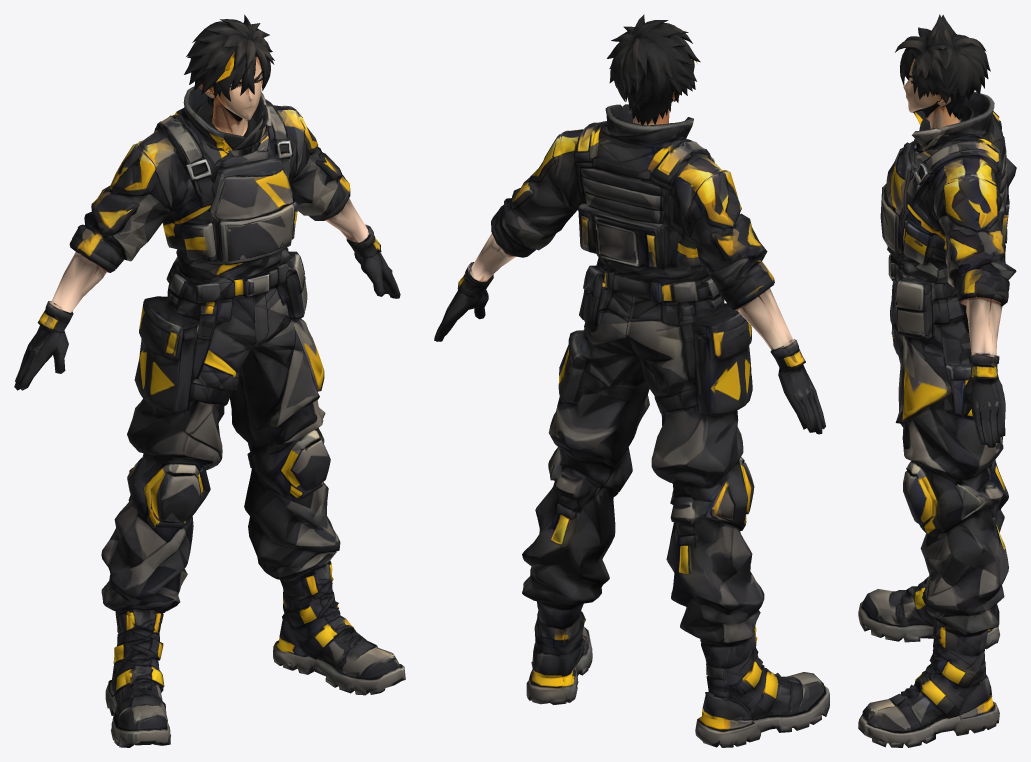
File: Sledge.fbx
3 views of the same model, side by side, from view 1: azimuth 30°, elevation 25°; view 2: azimuth 150°, elevation 25°; view 3: azimuth 270°, elevation 25° (orthographic). The views are drawn at different scales.
Visible parts, largest first — view 1: tripo_part_0.002, tripo_part_1.001, tripo_part_4.002, Sledge_Head, tripo_part_2.002; view 2: tripo_part_0.002, tripo_part_1.001, tripo_part_4.002, tripo_part_2.002, Sledge_Head; view 3: tripo_part_0.002, tripo_part_1.001, tripo_part_2.002, Sledge_Head.
Part boxes in pixels (<box>): tripo_part_0.002: <box>101,284,405,747</box>; tripo_part_1.001: <box>154,86,307,318</box>; tripo_part_4.002: <box>14,131,196,390</box>; Sledge_Head: <box>184,14,274,150</box>; tripo_part_2.002: <box>250,105,400,298</box>; tripo_part_0.002: <box>522,291,829,747</box>; tripo_part_1.001: <box>575,104,719,325</box>; tripo_part_4.002: <box>672,156,825,434</box>; tripo_part_2.002: <box>434,129,583,341</box>; Sledge_Head: <box>607,14,700,137</box>; tripo_part_0.002: <box>858,279,1008,747</box>; tripo_part_1.001: <box>880,91,1009,339</box>; tripo_part_2.002: <box>919,159,1016,447</box>; Sledge_Head: <box>895,14,990,154</box>.
Size of the model in its own units: 0.5666 by 0.9604 by 0.2081.
5 materials, 5 textured.
